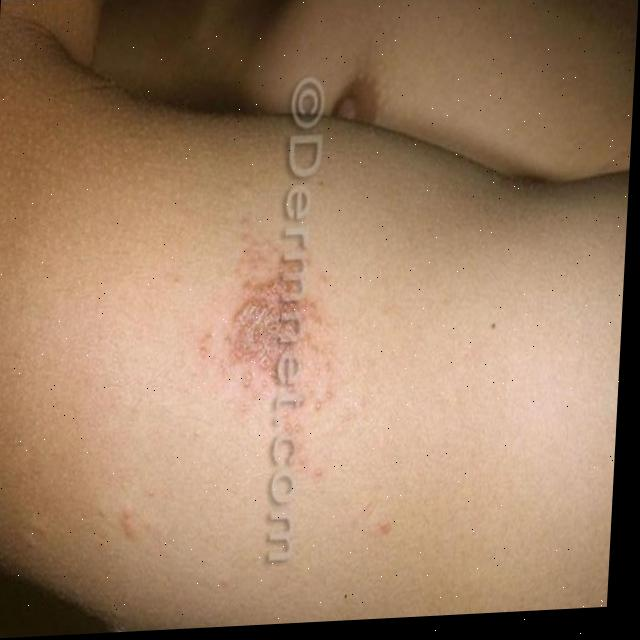Eczema: (218, 260, 330, 412)
